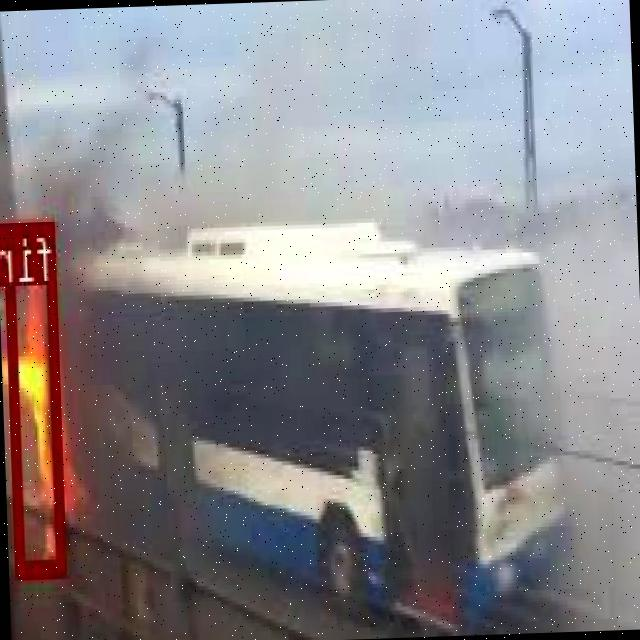fire: (5, 219, 68, 574)
